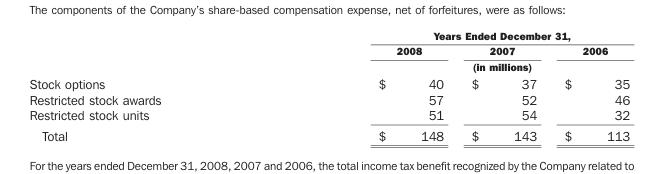table: (28, 28, 629, 142)
table column: (28, 28, 268, 142), (268, 28, 456, 142), (456, 28, 549, 142), (549, 28, 629, 142)
table column header: (28, 28, 629, 74)
table row: (28, 106, 629, 124), (28, 124, 629, 142), (28, 74, 629, 91), (28, 42, 629, 58), (28, 58, 629, 74), (28, 91, 629, 106), (28, 28, 629, 42)
table spanning cell: (268, 58, 629, 74), (268, 28, 629, 42)
